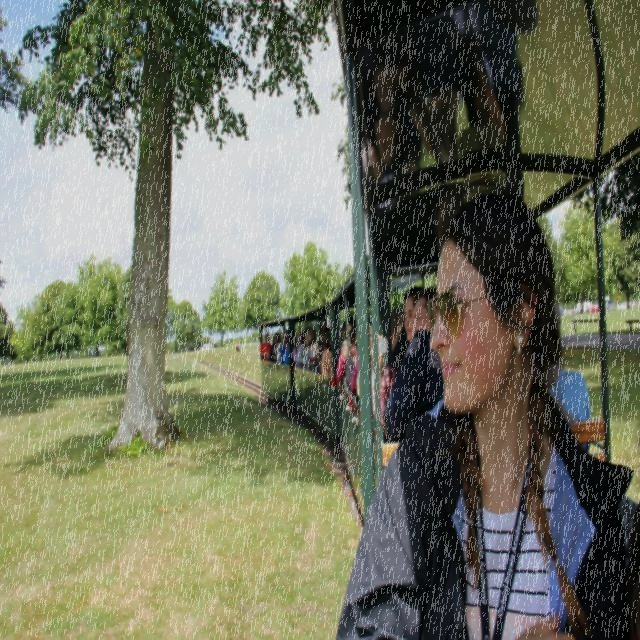pessoa: (333, 169, 639, 639), (363, 26, 504, 168), (320, 305, 404, 439), (384, 284, 446, 446), (534, 293, 595, 455), (372, 286, 426, 438), (296, 328, 308, 372), (258, 332, 272, 360), (270, 332, 282, 364), (292, 332, 302, 368), (275, 332, 284, 366), (307, 328, 319, 345), (306, 324, 312, 330)
